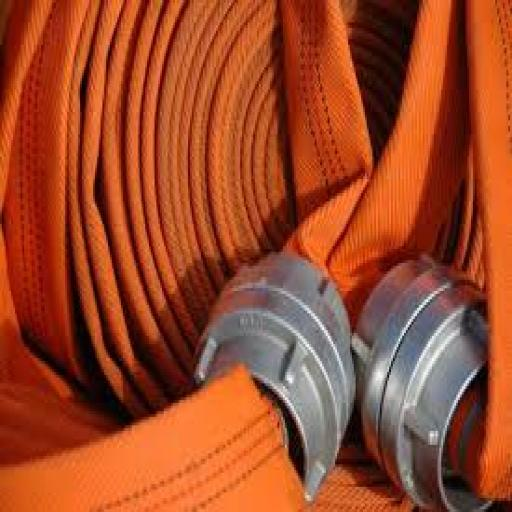fire_hose: (1, 0, 512, 512)
